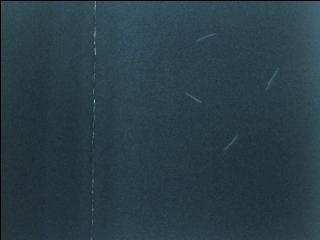crack: (83, 0, 106, 240)
scratch: (261, 61, 283, 99), (217, 130, 247, 156), (190, 26, 222, 48), (177, 87, 209, 109)
